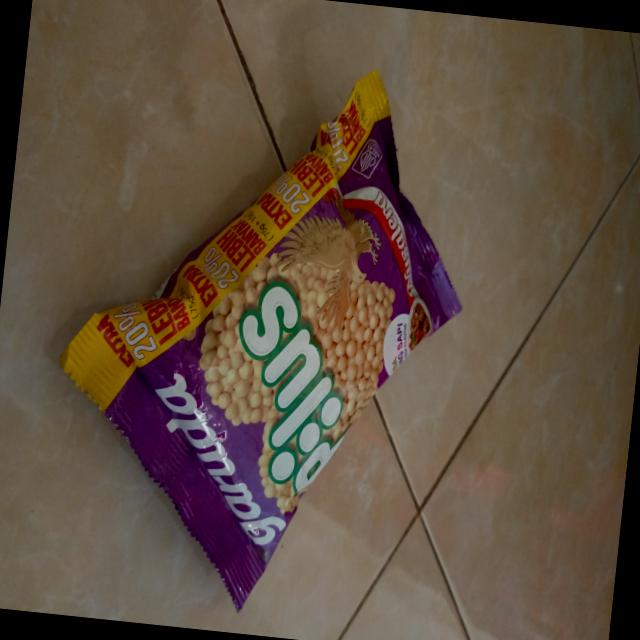pilus-rendang: (31, 38, 488, 631)
